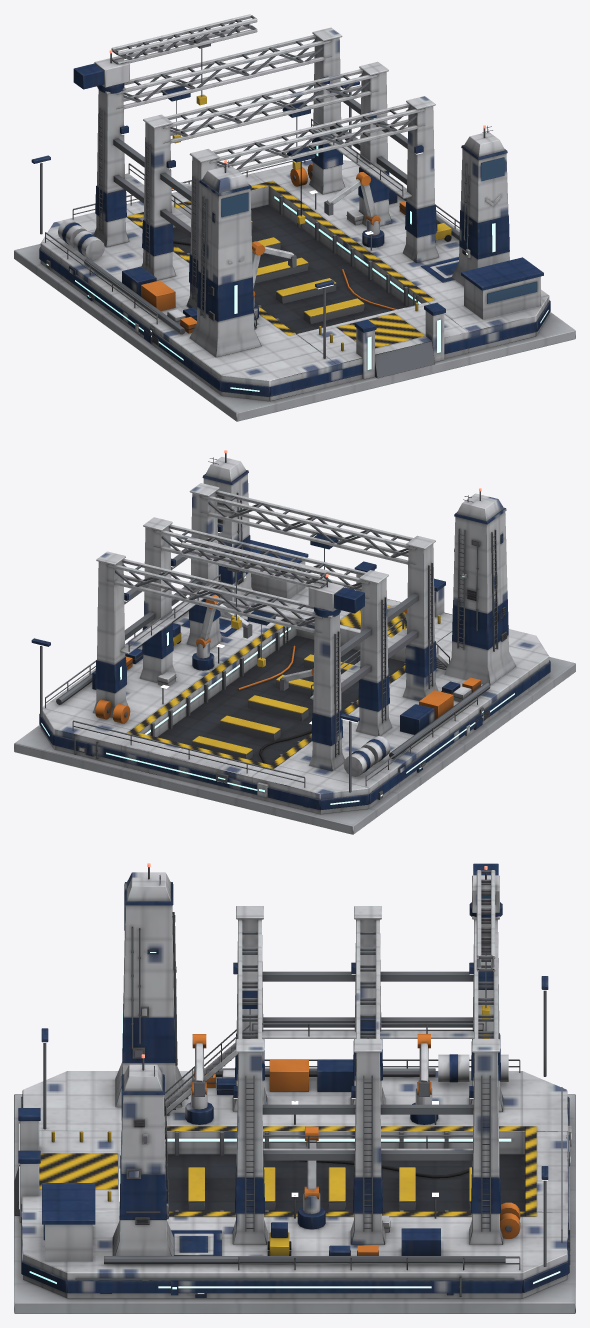
File: 重製_星艦船塢.glb
3 renders of one model, top to bottom at view 1: azimuth 30°, elevation 25°; view 2: azimuth 150°, elevation 25°; view 3: azimuth 270°, elevation 25°, orthographic. The views are drawn at different scales.
Parts seen in each view (by area): view 1: Dock_Mesh; view 2: Dock_Mesh; view 3: Dock_Mesh.
Boxes of the visible parts, left/top/right/bottom form: Dock_Mesh: left=14, top=14, right=575, bottom=421; Dock_Mesh: left=14, top=450, right=575, bottom=834; Dock_Mesh: left=14, top=863, right=575, bottom=1313.
Size of the model in its own units: 17.6 by 10.86 by 20.
Materials: 4 (1 with a texture image).
